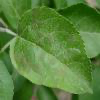Apple Scab Leaf: (9, 5, 94, 96)
